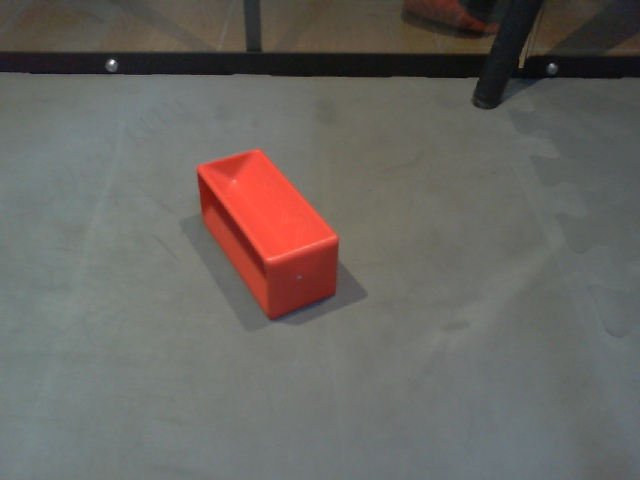RedSample: (193, 146, 341, 326)
